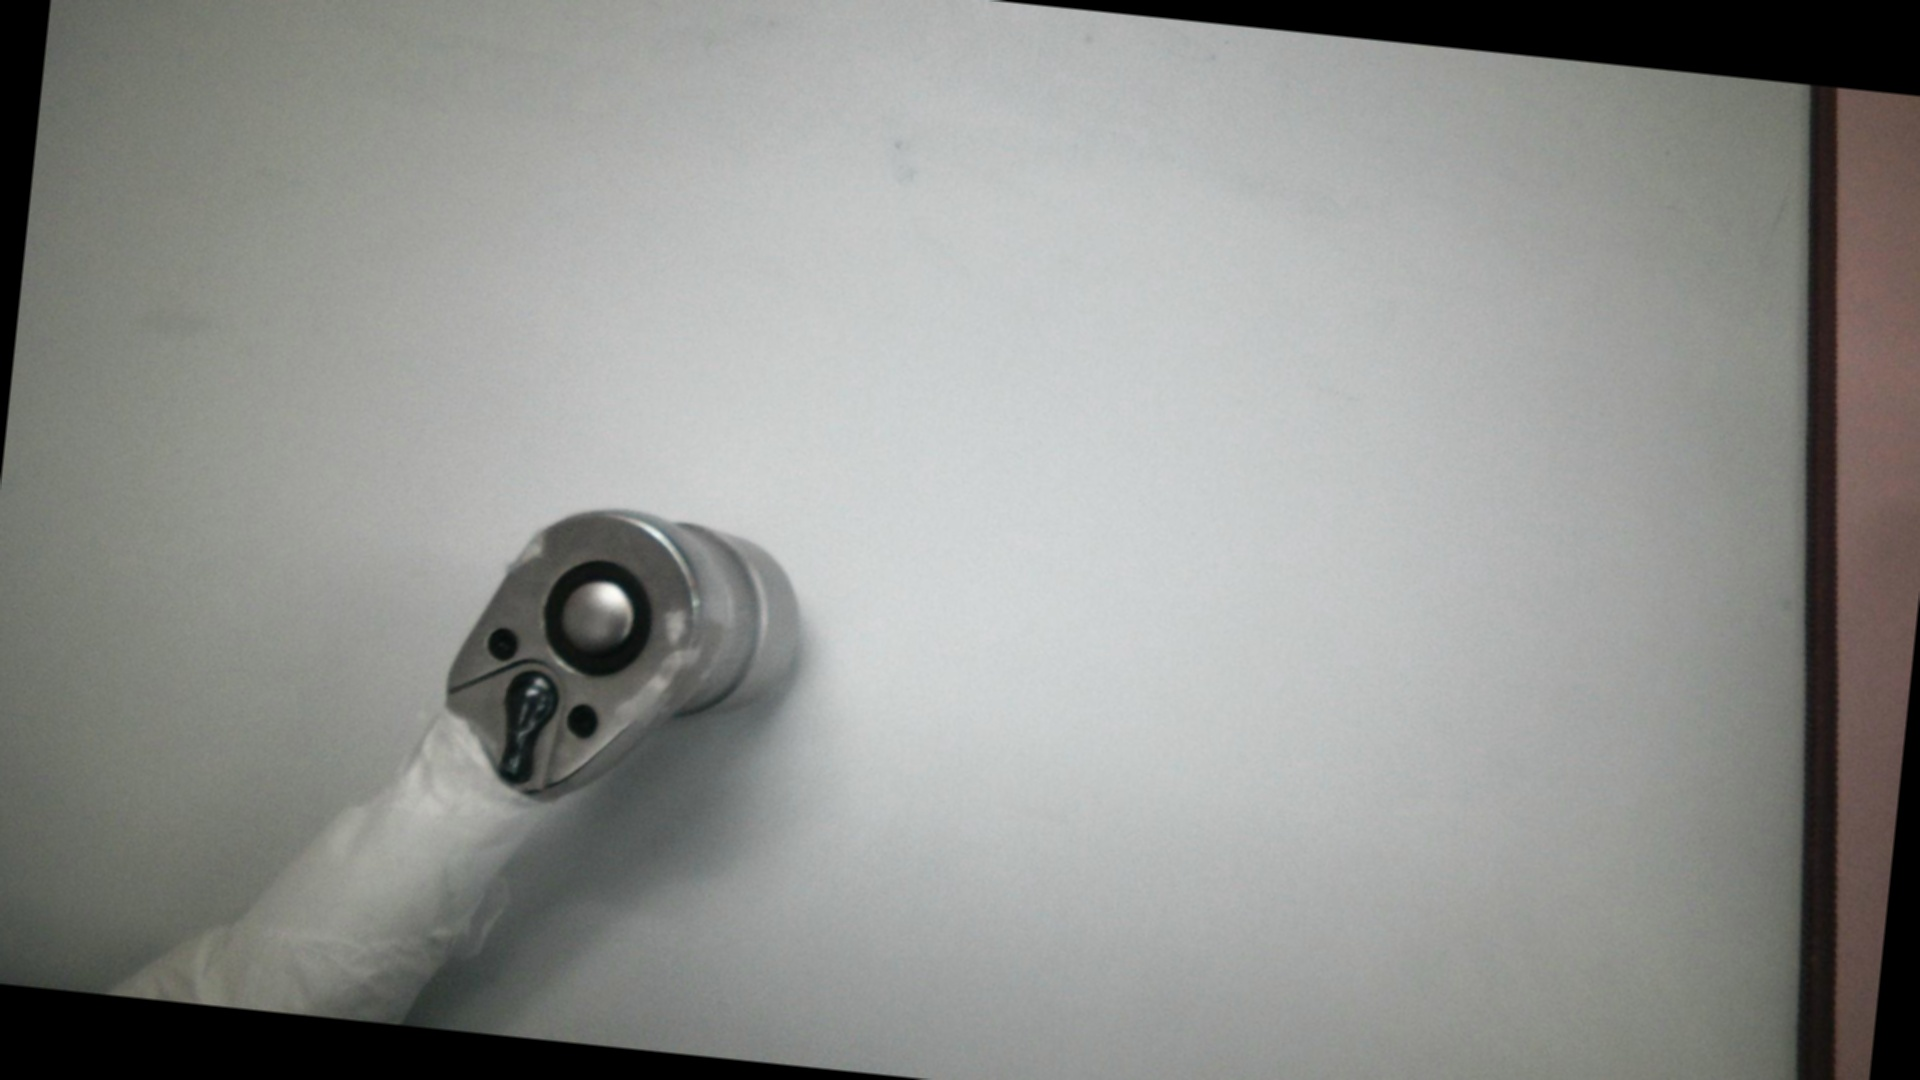wrench: (534, 550, 651, 683)
